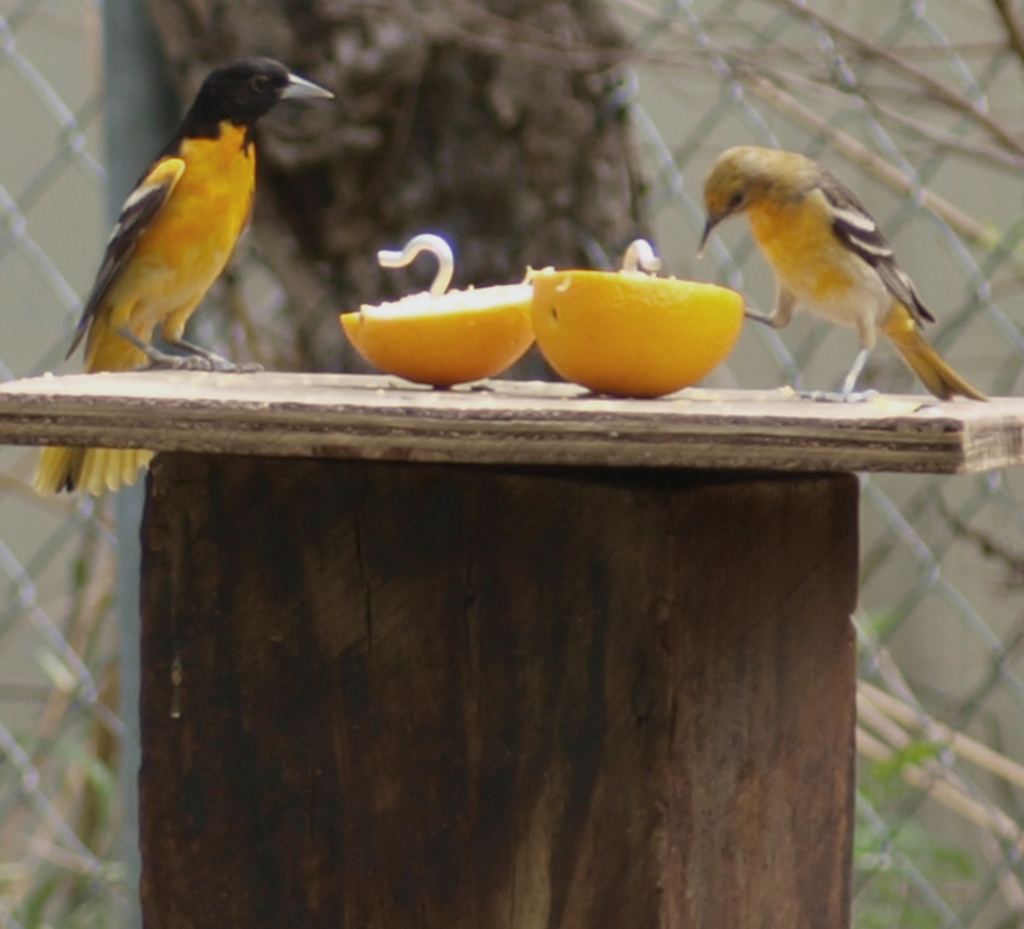Ripe: (527, 232, 784, 398), (341, 280, 532, 387)
